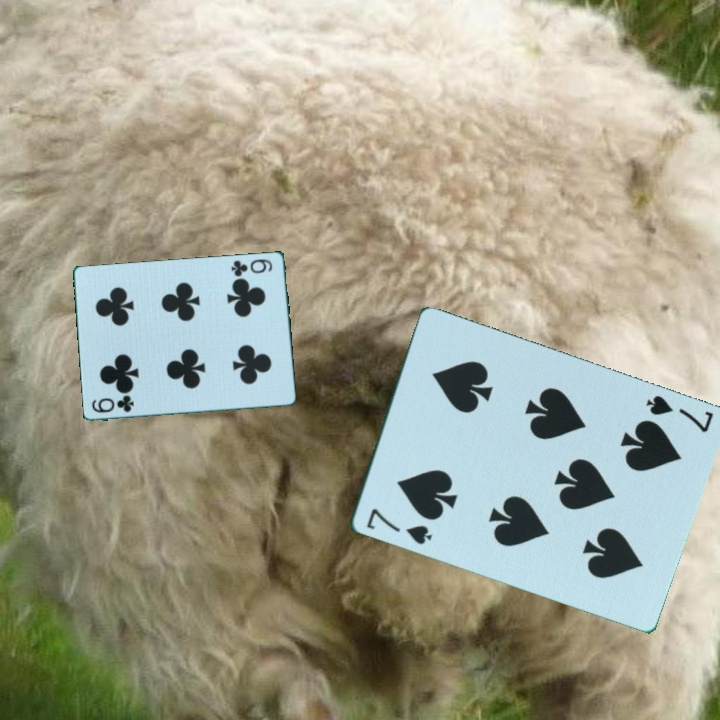6c: (228, 255, 275, 279), (88, 393, 137, 415)
7s: (641, 392, 716, 436), (362, 504, 435, 549)
